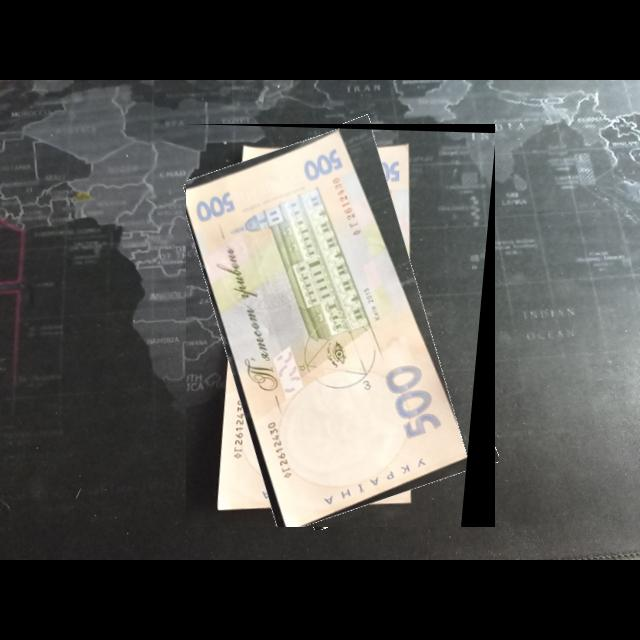500uah: (186, 129, 474, 528)
